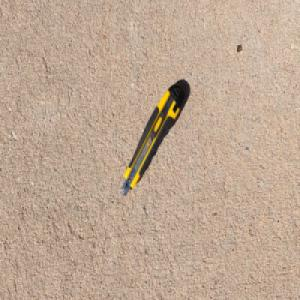Cutter: (121, 82, 185, 196)
